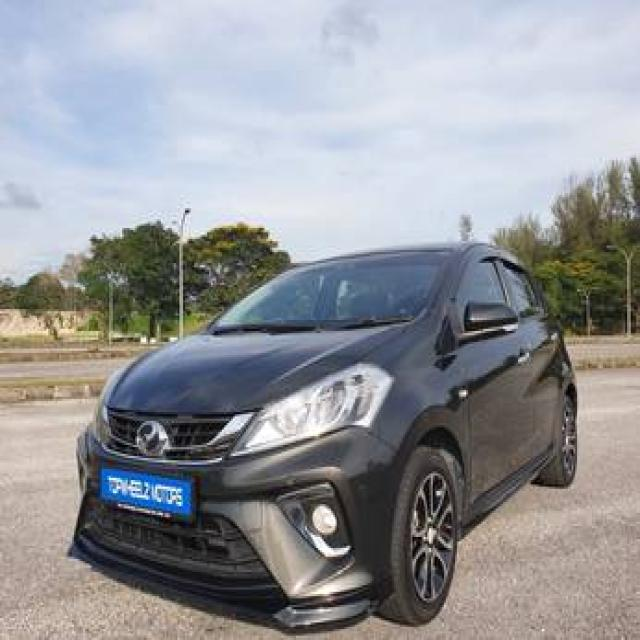PeroduaMyvi: (68, 237, 579, 631)
